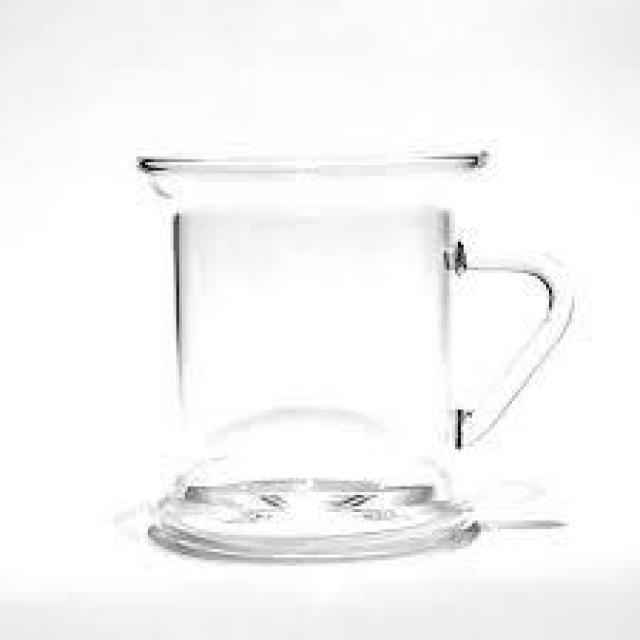glass: (109, 150, 579, 564)
